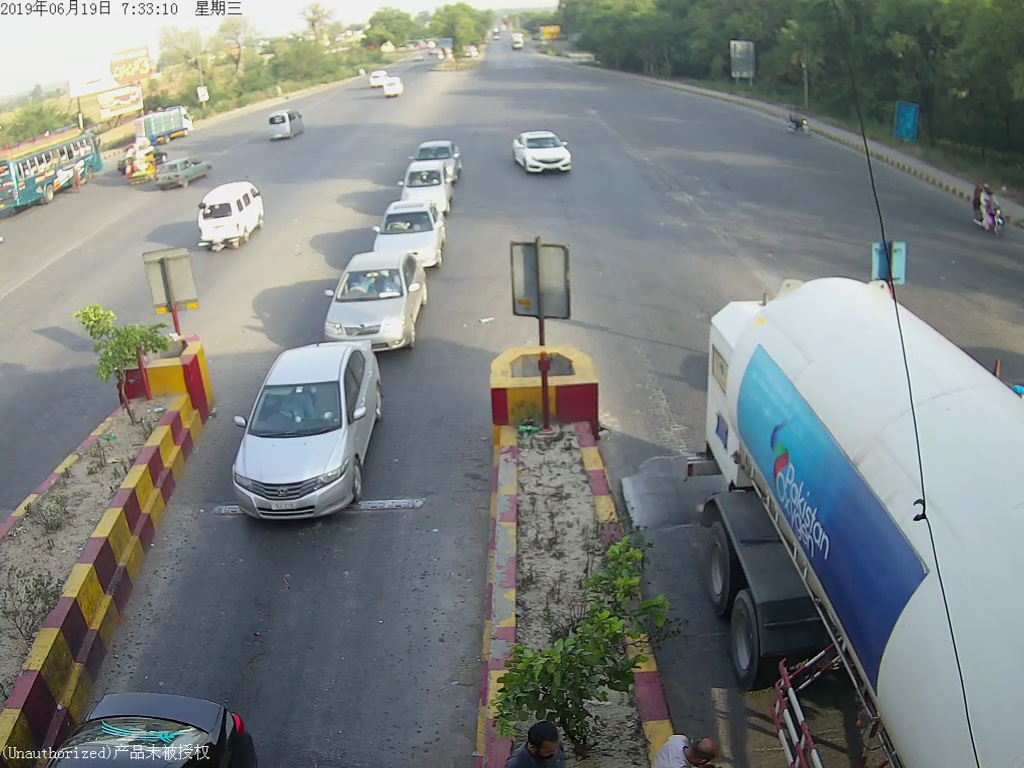Cat-1: (231, 342, 387, 520), (322, 259, 424, 339), (507, 130, 578, 181)
